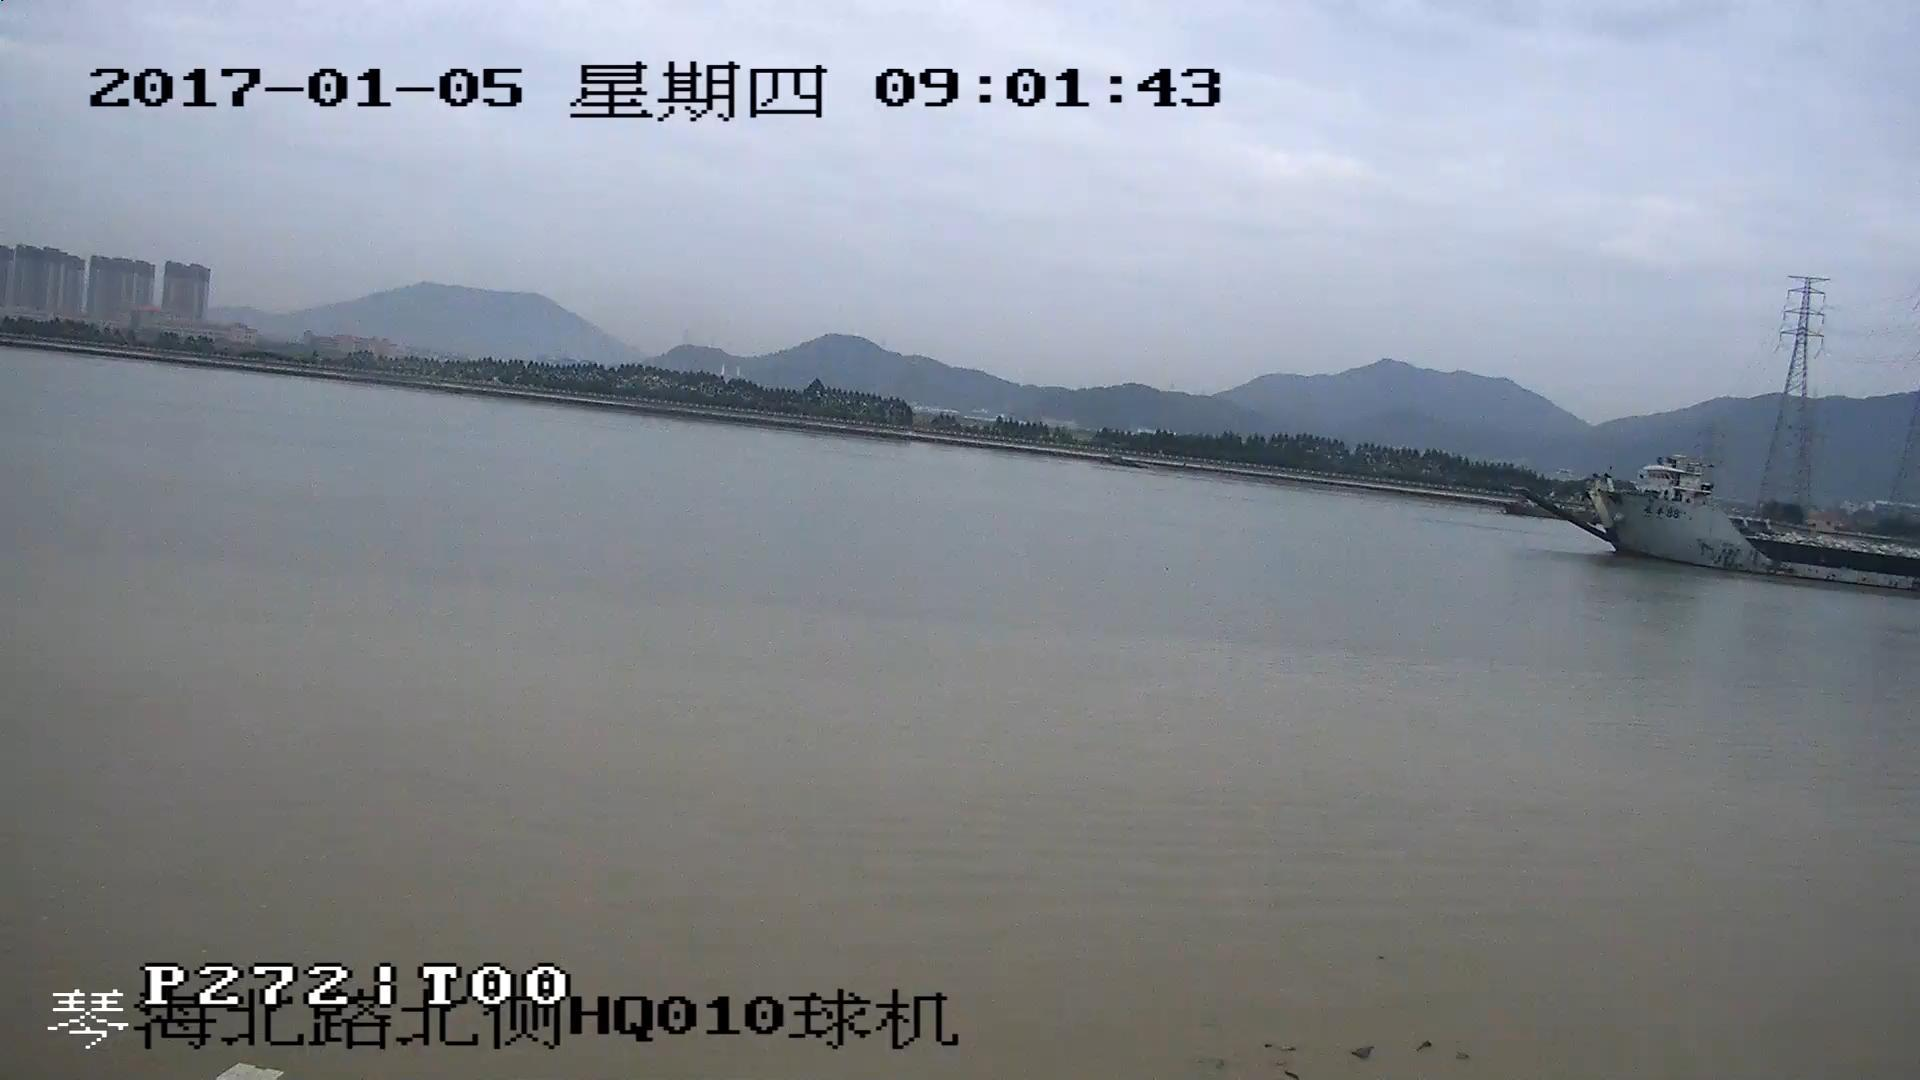Ship: (1545, 471, 1920, 599)
